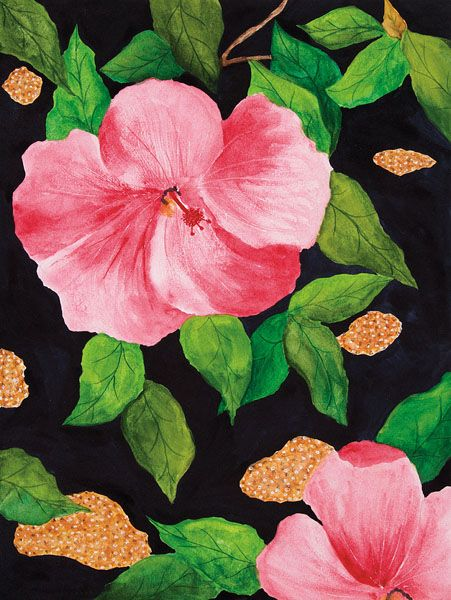Hibiscus: (1, 92, 339, 344), (267, 456, 451, 600)
